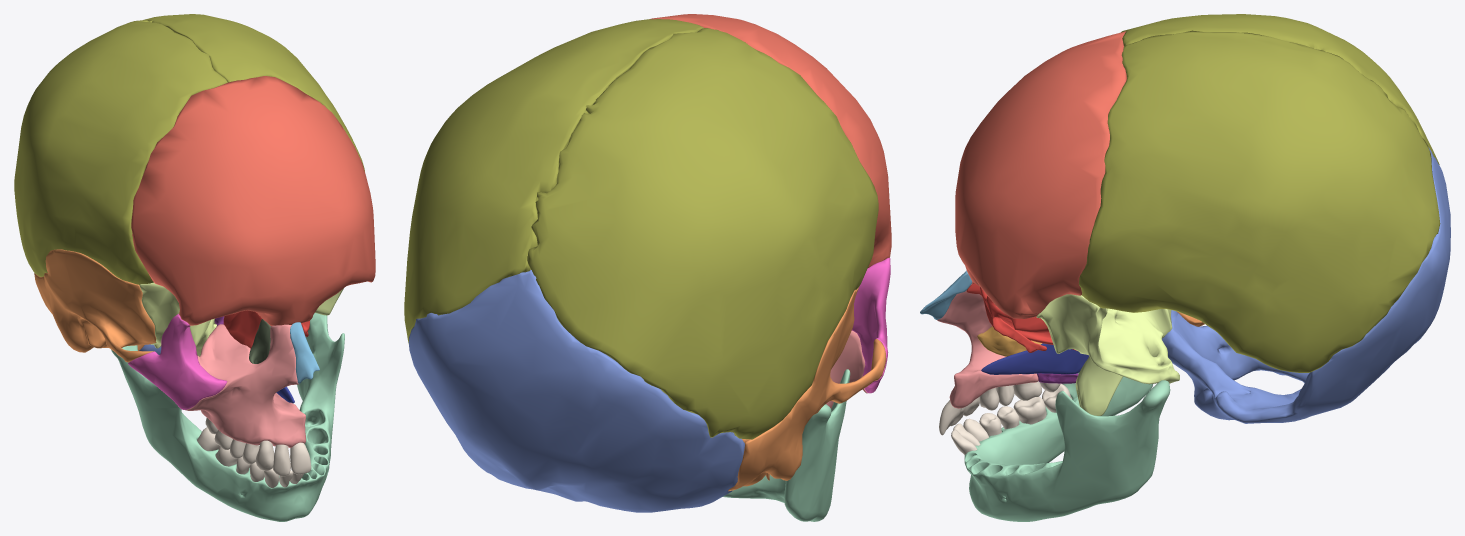
The model's file is skull.glb.
The picture shows the model from 3 angles, left to right: view 1: azimuth 30°, elevation 25°; view 2: azimuth 150°, elevation 25°; view 3: azimuth 270°, elevation 25°; orthographic projection. The views are drawn at different scales.
Parts seen in each view (by area): view 1: Frontal bone, Parietal bone.r, Mandible bone, Maxilla bone.r, Temporal bone.r, Parietal bone.l, Zygomatic bone.r, Sphenoid bone, Ethmoid Bone, Nasal bone.r, Lacrimal bone.r, Upper medial incisor.r (+2 smaller); view 2: Parietal bone.r, Occipital bone, Parietal bone.l, Frontal bone, Temporal bone.r, Mandible bone, Zygomatic bone.r, Maxilla bone.r; view 3: Parietal bone.l, Frontal bone, Mandible bone, Occipital bone, Sphenoid bone, Parietal bone.r, Maxilla bone.r, Vomer, Ethmoid Bone, Nasal bone.r, Inferior nasal concha bone.r, Lower first molar tooth.r.
Boxes of the visible parts, bbox=[...] form: Frontal bone: bbox=[131, 76, 375, 325]; Parietal bone.r: bbox=[14, 20, 227, 284]; Mandible bone: bbox=[111, 313, 344, 521]; Maxilla bone.r: bbox=[185, 324, 305, 447]; Temporal bone.r: bbox=[34, 249, 156, 362]; Parietal bone.l: bbox=[143, 14, 364, 171]; Zygomatic bone.r: bbox=[128, 313, 227, 409]; Sphenoid bone: bbox=[139, 282, 343, 356]; Ethmoid Bone: bbox=[223, 310, 309, 348]; Nasal bone.r: bbox=[290, 322, 319, 383]; Lacrimal bone.r: bbox=[249, 319, 270, 363]; Upper medial incisor.r: bbox=[290, 442, 311, 474]; Parietal bone.r: bbox=[527, 28, 878, 439]; Occipital bone: bbox=[408, 270, 744, 512]; Parietal bone.l: bbox=[404, 19, 703, 343]; Frontal bone: bbox=[649, 14, 891, 267]; Temporal bone.r: bbox=[728, 287, 886, 491]; Mandible bone: bbox=[723, 369, 850, 521]; Zygomatic bone.r: bbox=[852, 258, 890, 393]; Maxilla bone.r: bbox=[826, 330, 868, 408]; Parietal bone.l: bbox=[1078, 30, 1440, 372]; Frontal bone: bbox=[955, 31, 1126, 318]; Mandible bone: bbox=[964, 373, 1170, 521]; Occipital bone: bbox=[1162, 147, 1450, 423]; Sphenoid bone: bbox=[1036, 294, 1179, 415]; Parietal bone.r: bbox=[1121, 14, 1439, 164]; Maxilla bone.r: bbox=[937, 283, 1038, 408]; Vomer: bbox=[981, 343, 1088, 374]; Ethmoid Bone: bbox=[966, 283, 1076, 352]; Nasal bone.r: bbox=[920, 270, 972, 319]; Inferior nasal concha bone.r: bbox=[977, 326, 1042, 356]; Lower first molar tooth.r: bbox=[1013, 396, 1046, 424].
Bounding box in the file's own units: 0.1484 × 0.2013 × 0.2037.
